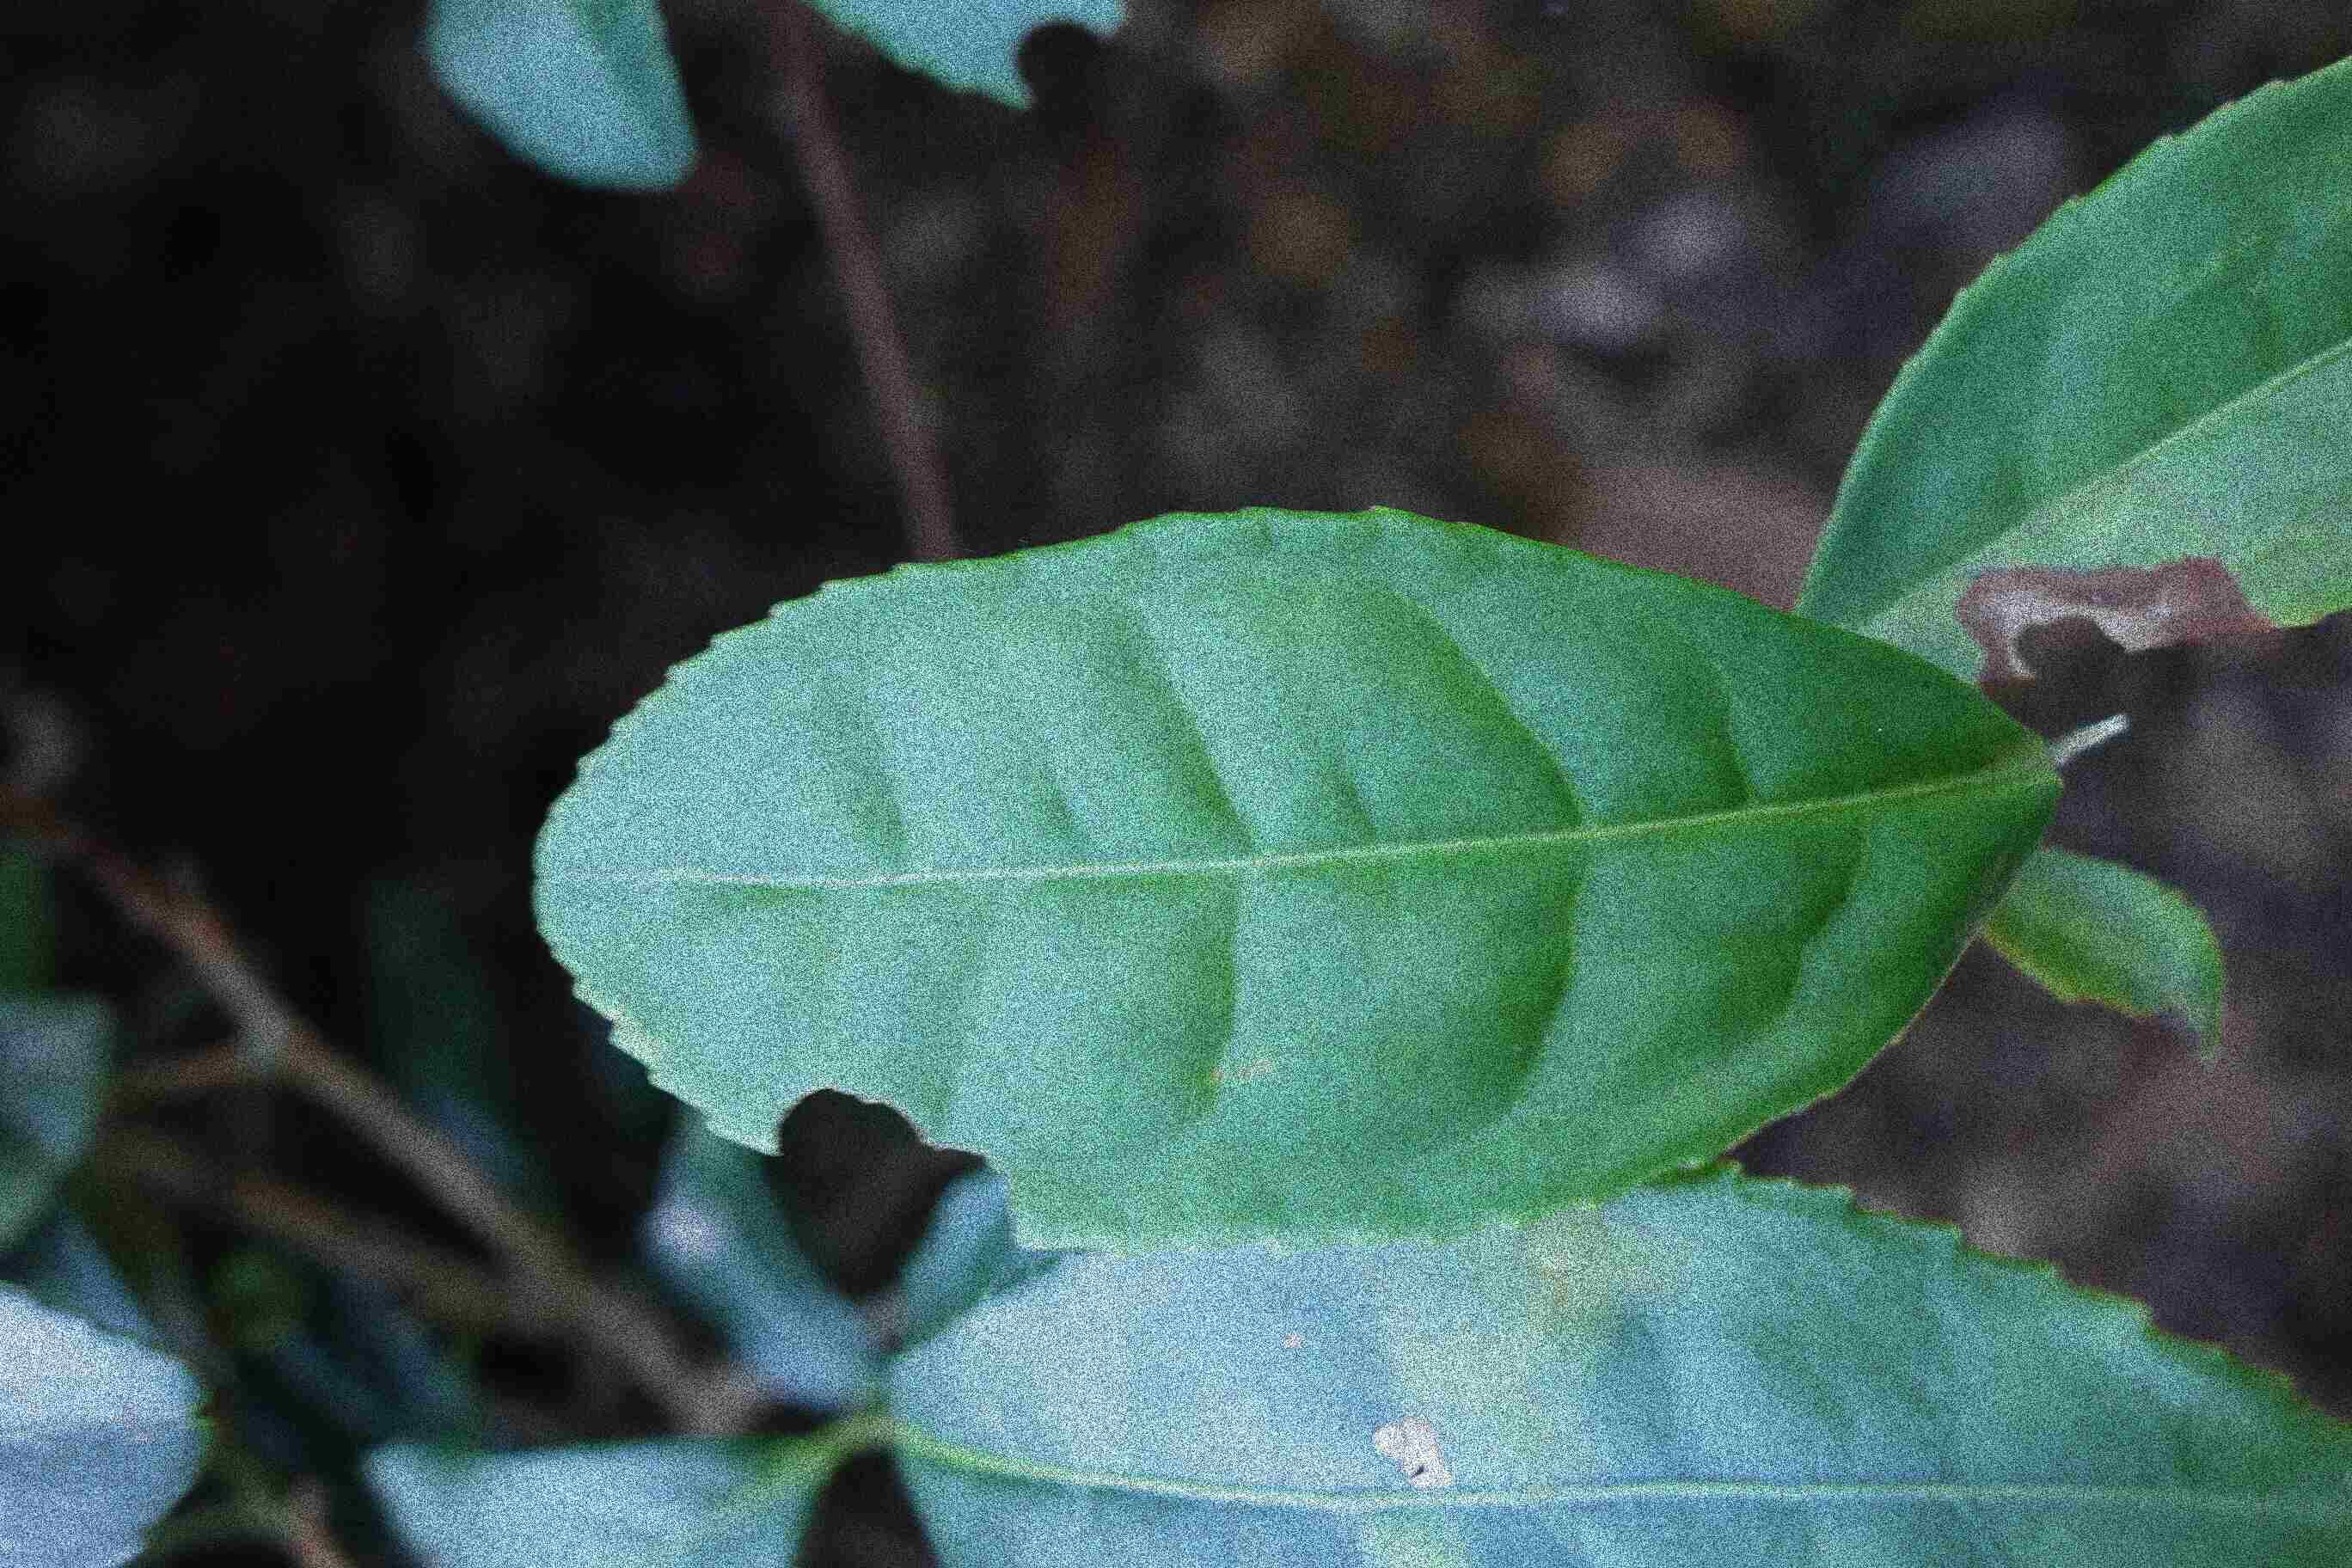chihuo_low: (499, 495, 2070, 1260)
tanju_high: (1832, 63, 2352, 688)
